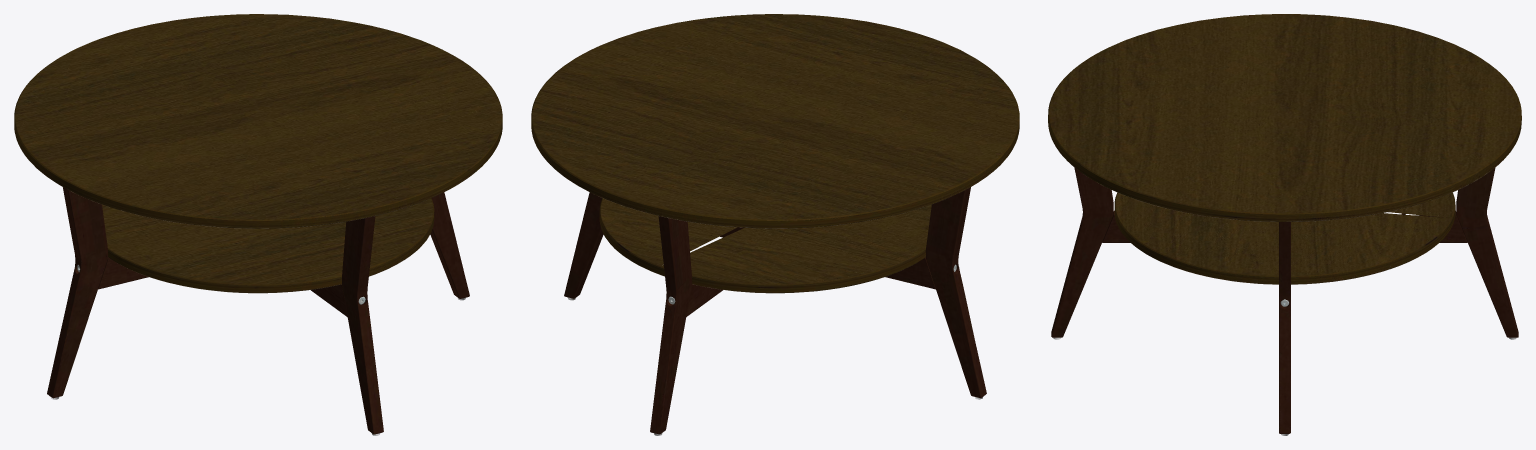
Rendered from JAKOBSFORS_50515167.glb.
The picture shows the model from 3 angles, left to right: view 1: azimuth 30°, elevation 25°; view 2: azimuth 150°, elevation 25°; view 3: azimuth 270°, elevation 25°; orthographic projection. The views are drawn at different scales.
Visible parts, largest first — view 1: model; view 2: model; view 3: model.
Boxes of the visible parts, box(x1,y1,x2,y2) form: model: box(14, 14, 502, 435); model: box(531, 14, 1019, 435); model: box(1048, 14, 1521, 435).
Bounding box in the file's own units: 0.7998 × 0.4182 × 0.7999.
Materials: 1 (1 with a texture image).
